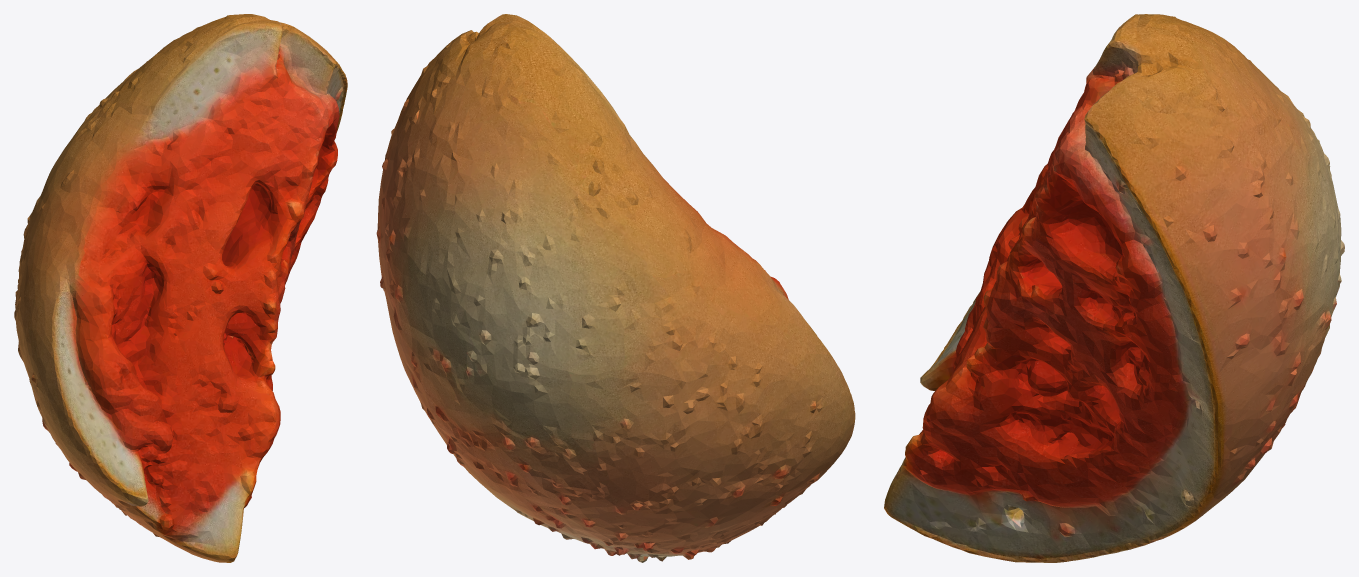
Rendered from wing (180).glb.
3 renders of one model, left to right at view 1: azimuth 30°, elevation 25°; view 2: azimuth 150°, elevation 25°; view 3: azimuth 270°, elevation 25°, orthographic. The views are drawn at different scales.
Visible parts, largest first — view 1: Hy21_Mesh.obj; view 2: Hy21_Mesh.obj; view 3: Hy21_Mesh.obj.
Part boxes in pixels (<box>): Hy21_Mesh.obj: <box>14,14,347,562</box>; Hy21_Mesh.obj: <box>376,14,855,562</box>; Hy21_Mesh.obj: <box>884,14,1344,562</box>.
Bounding box in the file's own units: 1.48 × 1.93 × 1.36.
Materials: 1 (1 with a texture image).
